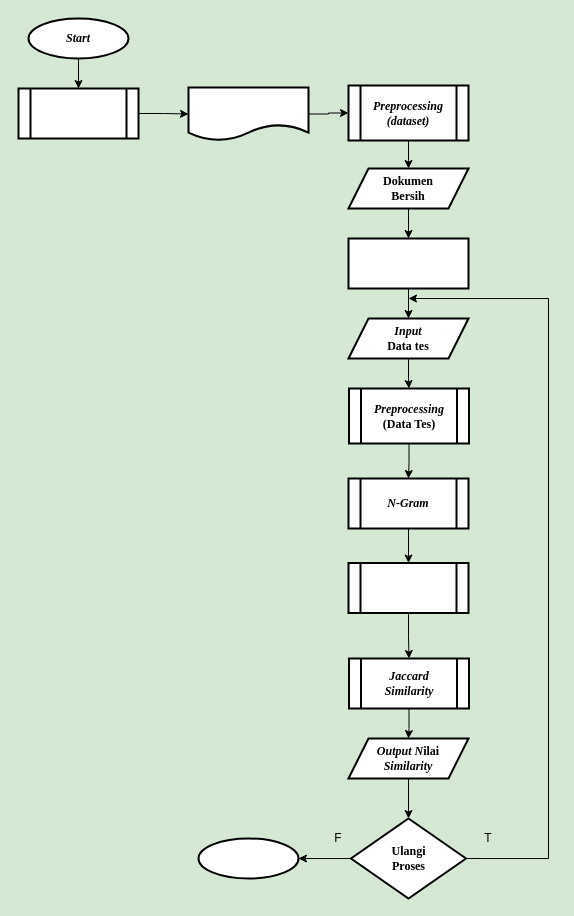
This 574x916 diagram has some shape labels left out. The shapes that lost their labels are listed below. From the top down, each one's centre as x and y in pixels, then its label:
At [78,113]: "Data Dokumen".
At [248,113]: "Dataset".
At [408,263]: "Insert database".
At [408,588]: "Algoritme Winnowing".
At [248,858]: "End".
